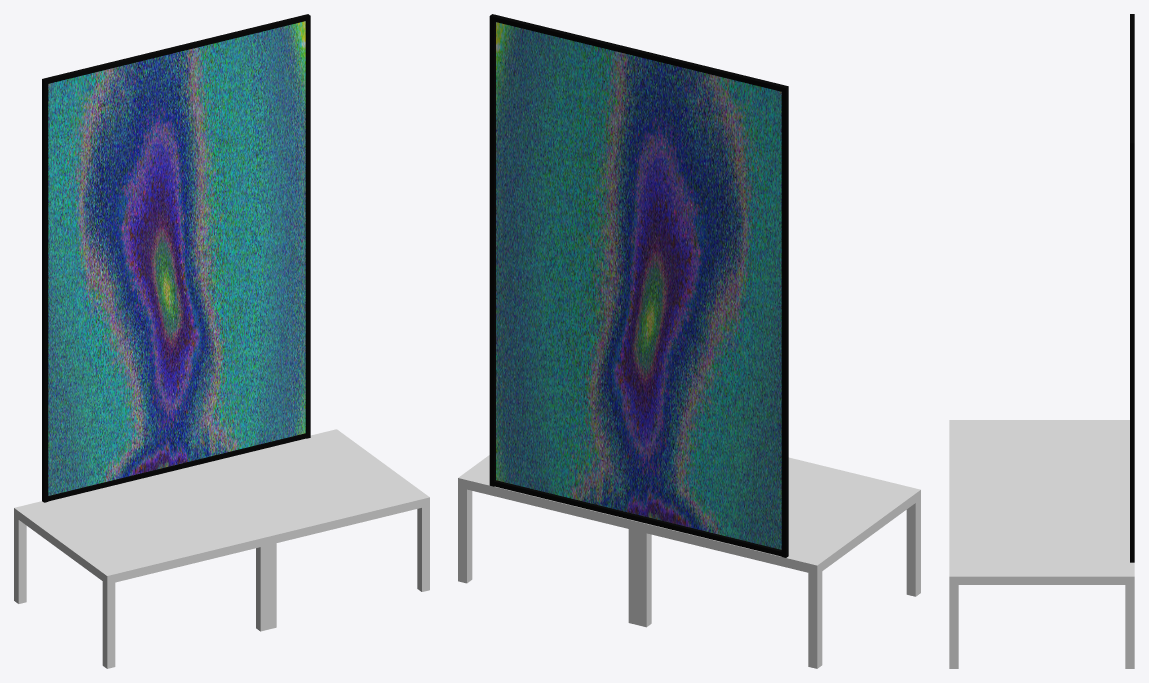
File: stage.gltf
3 renders of one model, left to right at view 1: azimuth 30°, elevation 25°; view 2: azimuth 150°, elevation 25°; view 3: azimuth 270°, elevation 25°, orthographic. The views are drawn at different scales.
Visible parts, largest first — view 1: Plane, Cube.005, Cube, Cube.002, Cube.006, Cube.004; view 2: Plane, Cube.002, Cube.005, Cube.006, Cube, Cube.004; view 3: Cube, Cube.005, Cube.002, Cube.004.
Boxes of the visible parts, box(x1,y1,x2,y2) form: Plane: box(48, 21, 305, 495); Cube.005: box(14, 470, 268, 584); Cube: box(178, 429, 429, 544); Cube.002: box(42, 14, 310, 502); Cube.006: box(14, 516, 268, 668); Cube.004: box(268, 506, 429, 629); Plane: box(496, 22, 781, 549); Cube.002: box(489, 14, 788, 557); Cube.005: box(637, 457, 920, 574); Cube.006: box(637, 499, 920, 668); Cube: box(458, 455, 637, 530); Cube.004: box(458, 487, 637, 624); Cube: box(949, 498, 1134, 584); Cube.005: box(949, 420, 1129, 498); Cube.002: box(1130, 14, 1134, 562); Cube.004: box(949, 585, 1134, 668).
Bounding box in the file's own units: 4 × 6.1 × 2.
3 materials, 1 textured.
